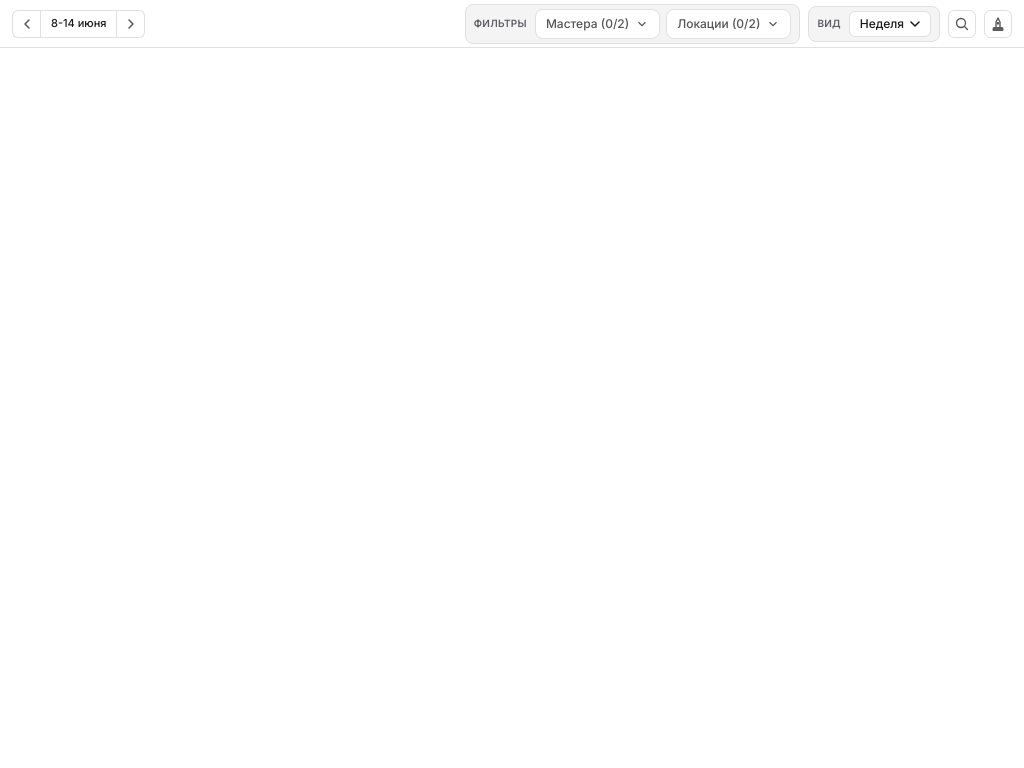
Test: Topbar › closes calendar popover when a date is selected
Open the calendar
Click the button with test id "date-nav-text" at (79, 24), box 40,10 -> 118,38
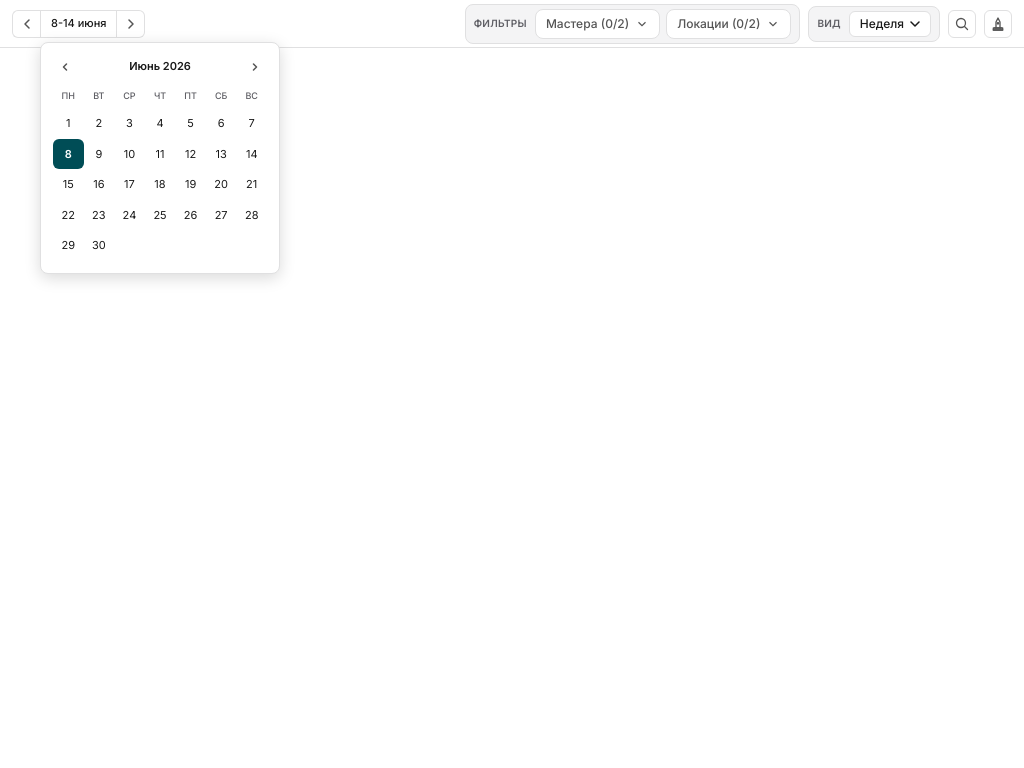
Expected: the dialog with test id "calendar-popover" is shown, 40,42 -> 280,274
Click on day 15 (June 15, 2026)
Click the button "15" at (68, 184), box 53,169 -> 84,200
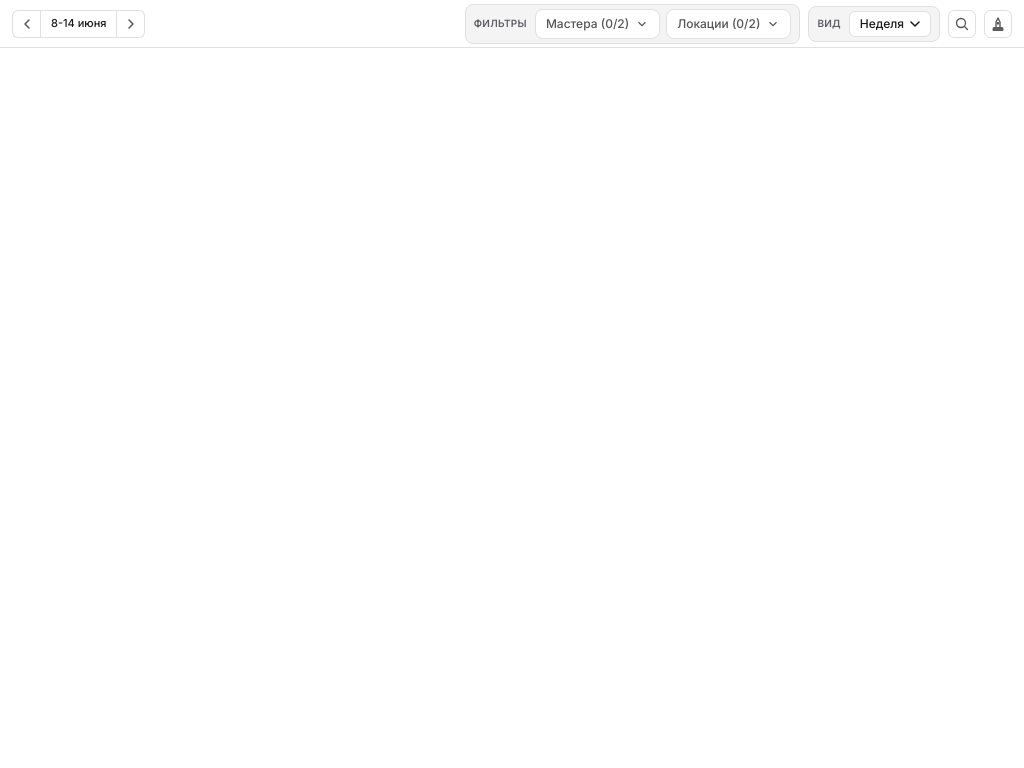
Expected: the dialog with test id "calendar-popover" is gone
